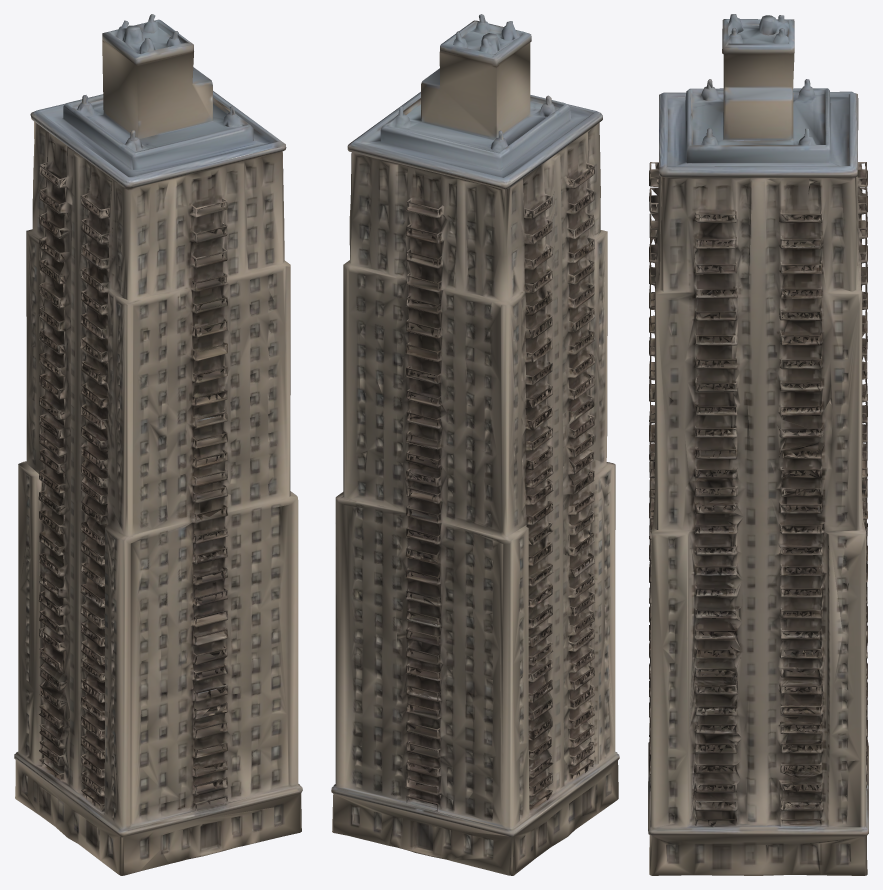
File: asset-model-bldng3-opt-259cb0f4-41e0-43db-9c5a-17b113493400-DwjcdkCg.glb
3 renders of one model, left to right at view 1: azimuth 30°, elevation 25°; view 2: azimuth 150°, elevation 25°; view 3: azimuth 270°, elevation 25°, orthographic.
Visible parts, largest first — view 1: node_0; view 2: node_0; view 3: node_0.
Part boxes in pixels (x1,y1,x2,y2): node_0: (14, 14, 302, 875); node_0: (331, 14, 619, 875); node_0: (648, 14, 868, 875).
Size of the model in its own units: 0.2759 by 1.14 by 0.2821.
1 material, 1 textured.
